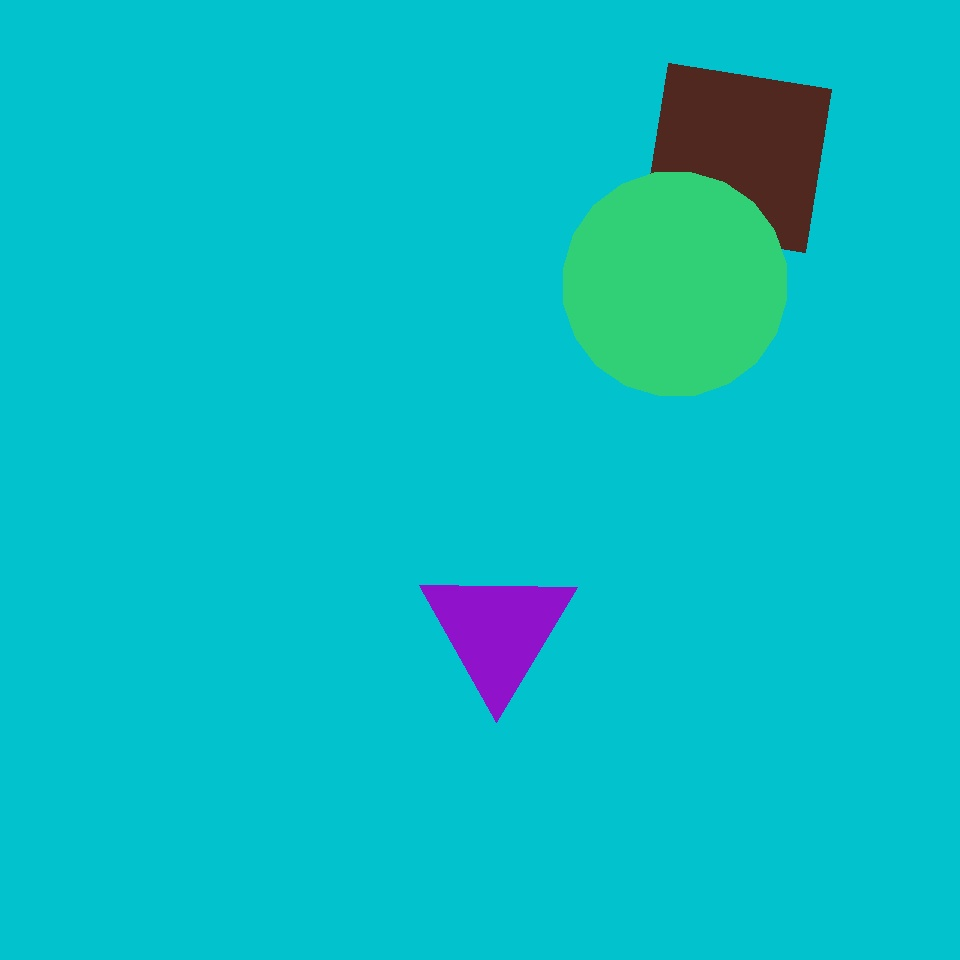circle: (419, 564, 577, 700)
square: (220, 122, 521, 423), (642, 64, 832, 252), (519, 268, 636, 385)
triangle: (288, 411, 599, 722), (567, 268, 815, 516), (564, 172, 786, 396), (66, 752, 252, 938)
